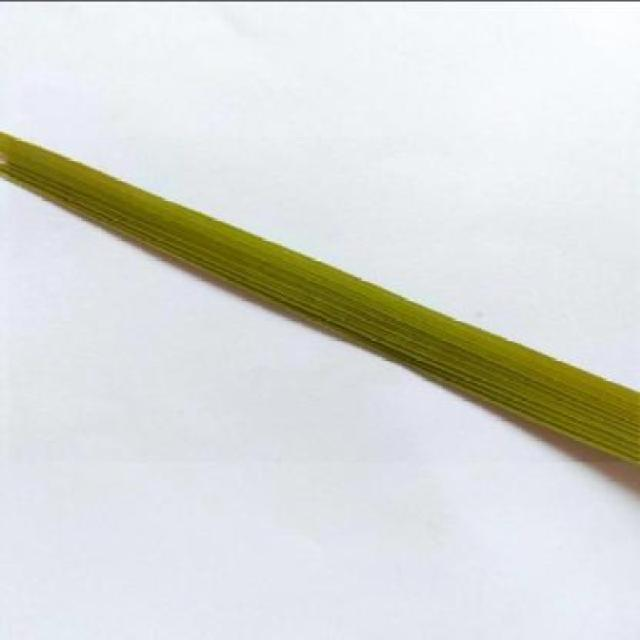Bacterial_Leaf_Blight: (0, 144, 14, 168)
Rice Tungro: (0, 129, 637, 480)
